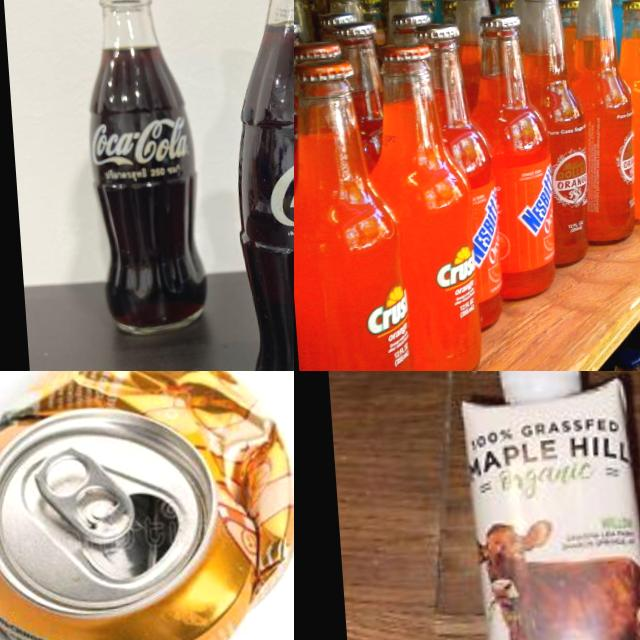aba de lata: (31, 442, 137, 549)
caixinha: (457, 373, 640, 640)
garrafa de vidro: (76, 0, 215, 341), (358, 43, 485, 371), (294, 59, 412, 371), (211, 0, 294, 371), (462, 11, 561, 302), (418, 21, 506, 336), (515, 0, 594, 270), (559, 0, 640, 249), (606, 0, 640, 224), (610, 349, 640, 371)
lata: (0, 371, 294, 640)
tampa plástica: (496, 371, 583, 405)
